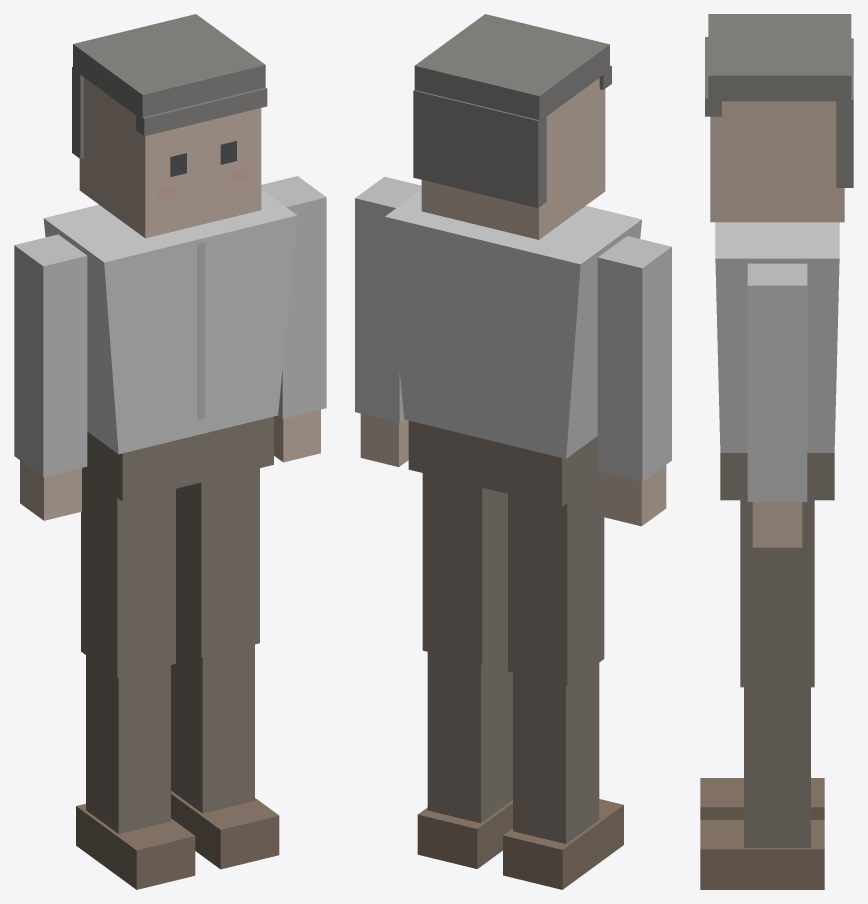
Rendered from walker_10.glb.
The picture shows the model from 3 angles, left to right: view 1: azimuth 30°, elevation 25°; view 2: azimuth 150°, elevation 25°; view 3: azimuth 270°, elevation 25°; orthographic projection. The views are drawn at different scales.
Parts seen in each view (by area): view 1: walker_10; view 2: walker_10; view 3: walker_10.
Part boxes in pixels (bbox=[...]): walker_10: bbox=[14, 14, 326, 889]; walker_10: bbox=[355, 14, 671, 889]; walker_10: bbox=[700, 14, 853, 889].
Bounding box in the file's own units: 0.6615 × 1.76 × 0.3018.
